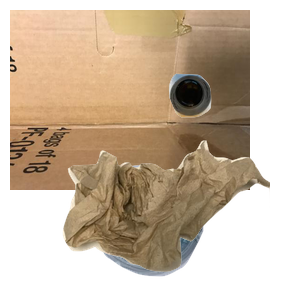cardboard: (10, 10, 250, 190)
glass: (166, 71, 300, 181)
plastic: (86, 163, 282, 300)
trash: (60, 138, 300, 300)
